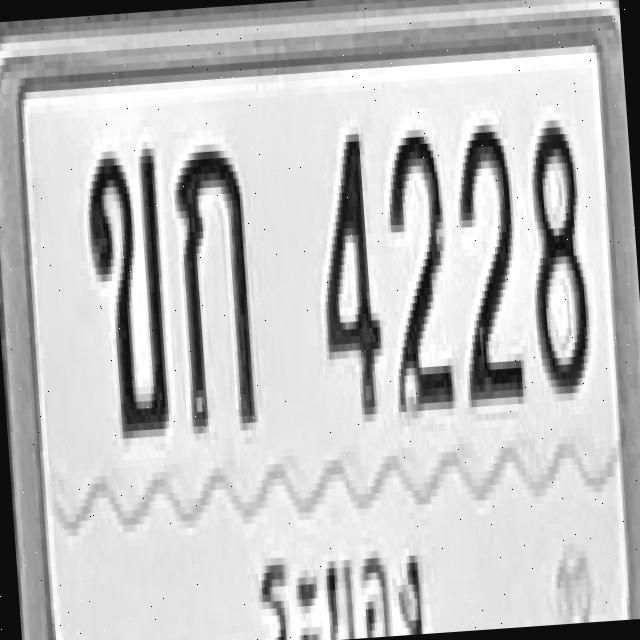10GorGai: (170, 138, 258, 430)
11KhorKhai: (81, 141, 172, 440)
2: (378, 121, 456, 412), (449, 120, 526, 403)
4: (310, 126, 386, 417)
8: (521, 112, 592, 394)
Rayong: (248, 532, 432, 640)
